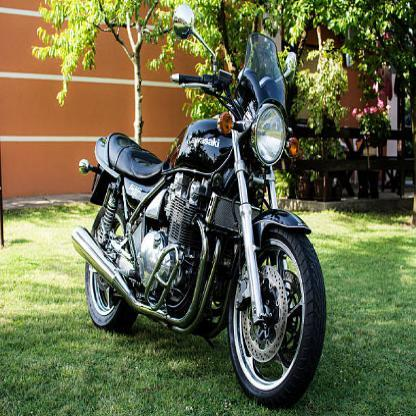Motorcycle: (72, 0, 330, 404)
